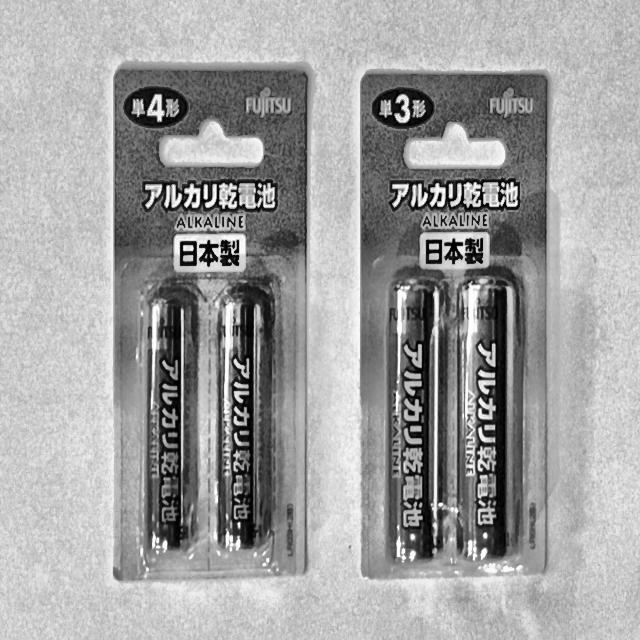drycell: (452, 271, 524, 574), (379, 278, 448, 571), (134, 282, 192, 560), (213, 297, 264, 563)
